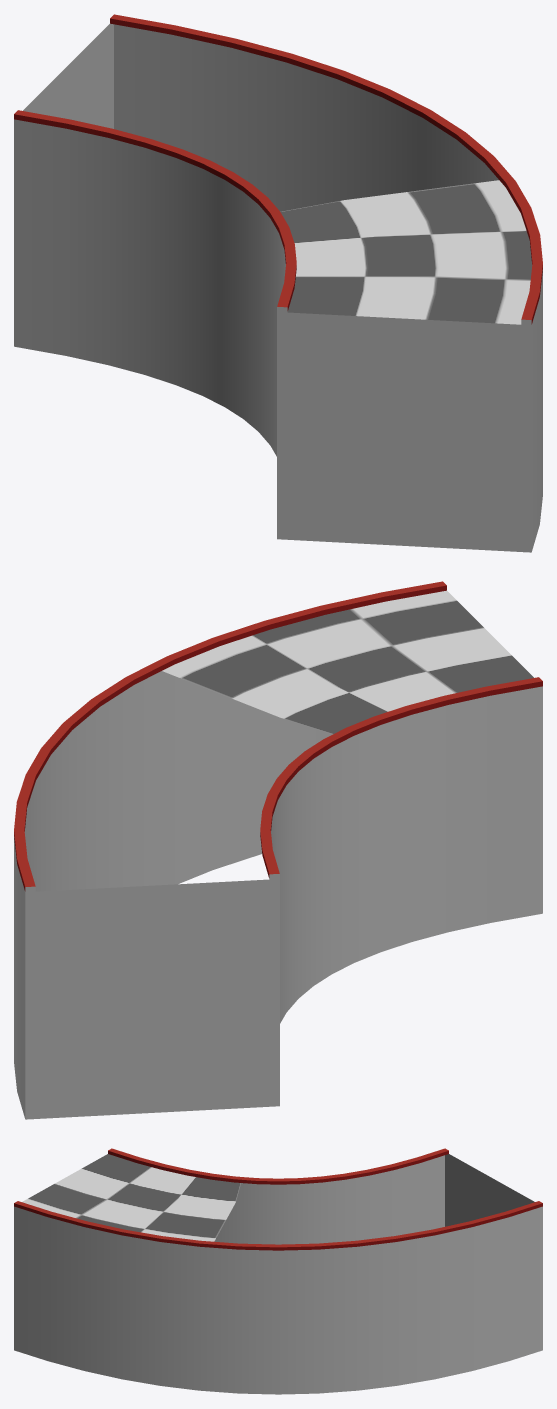
Rendered from Road_Curve_02.fbx.
The picture shows the model from 3 angles, top to bottom: view 1: azimuth 30°, elevation 25°; view 2: azimuth 150°, elevation 25°; view 3: azimuth 270°, elevation 25°; orthographic projection. The views are drawn at different scales.
Parts seen in each view (by area): view 1: Road_Curve_02, Road_Curve_02_Border; view 2: Road_Curve_02, Road_Curve_02_Border; view 3: Road_Curve_02, Road_Curve_02_Border.
Part boxes in pixels (left/top/right/bottom): Road_Curve_02: left=14, top=23, right=542, bottom=552; Road_Curve_02_Border: left=14, top=14, right=542, bottom=325; Road_Curve_02: left=14, top=590, right=542, bottom=1119; Road_Curve_02_Border: left=14, top=581, right=542, bottom=892; Road_Curve_02: left=14, top=1154, right=542, bottom=1394; Road_Curve_02_Border: left=14, top=1148, right=542, bottom=1250.
Size of the model in its own units: 1263 by 876 by 2853.
